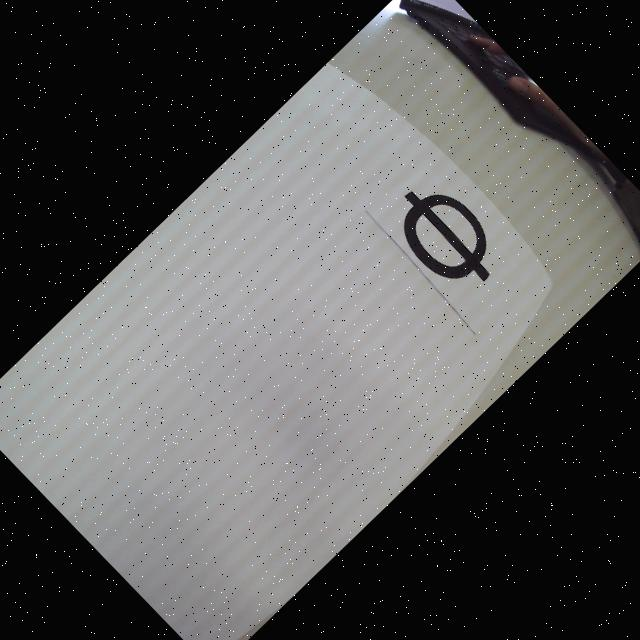PHI: (379, 169, 514, 304)
